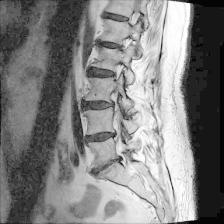disc: (93, 34, 138, 59), (98, 8, 136, 29)
hdisc: (85, 154, 128, 181), (81, 96, 119, 118), (86, 63, 122, 86), (82, 128, 120, 149)
